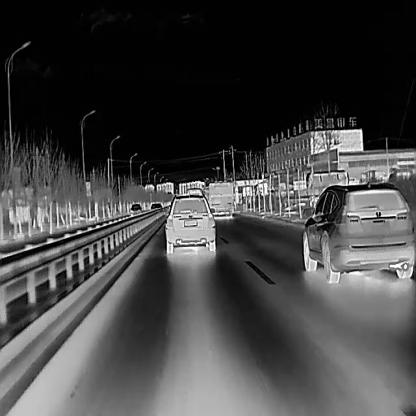bus: (205, 179, 233, 219)
car: (300, 184, 414, 283), (164, 193, 215, 252), (130, 202, 140, 217), (150, 201, 161, 213)
truck: (294, 168, 387, 208)
